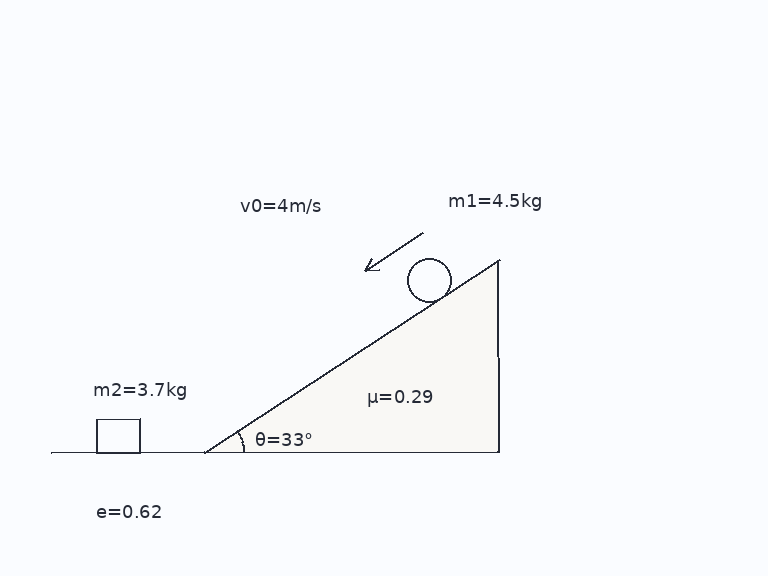ball: (405, 256, 453, 304)
block: (94, 418, 142, 454)
ramp: (202, 259, 500, 454)
